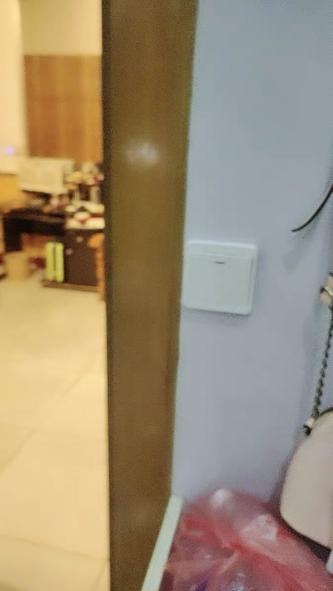switch: (182, 245, 260, 308)
